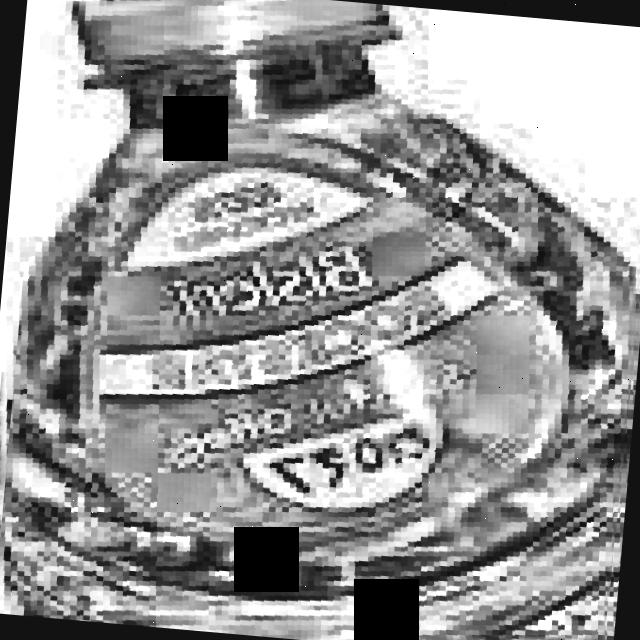bottle: (0, 0, 637, 639)
